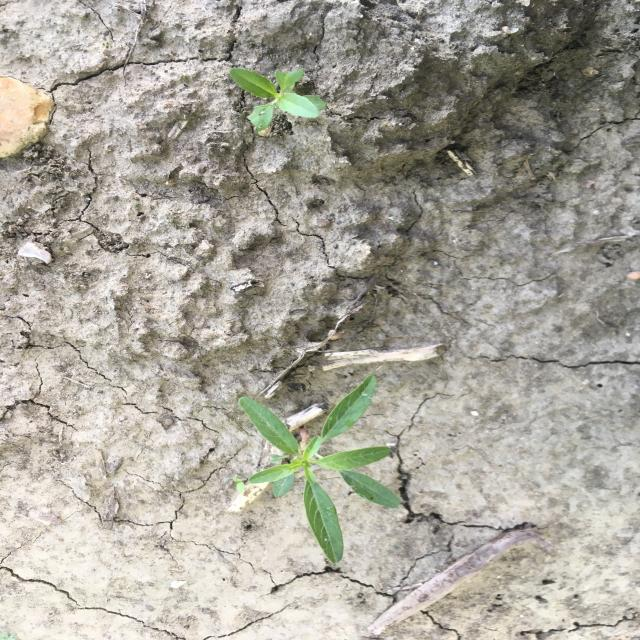Eclipta: (227, 66, 329, 136)
Waterhemp: (235, 375, 402, 565)
